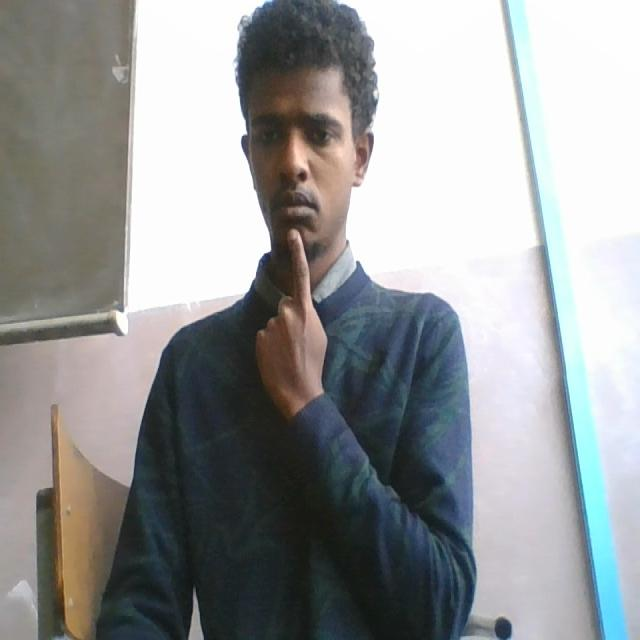lomi: (249, 208, 327, 424)
